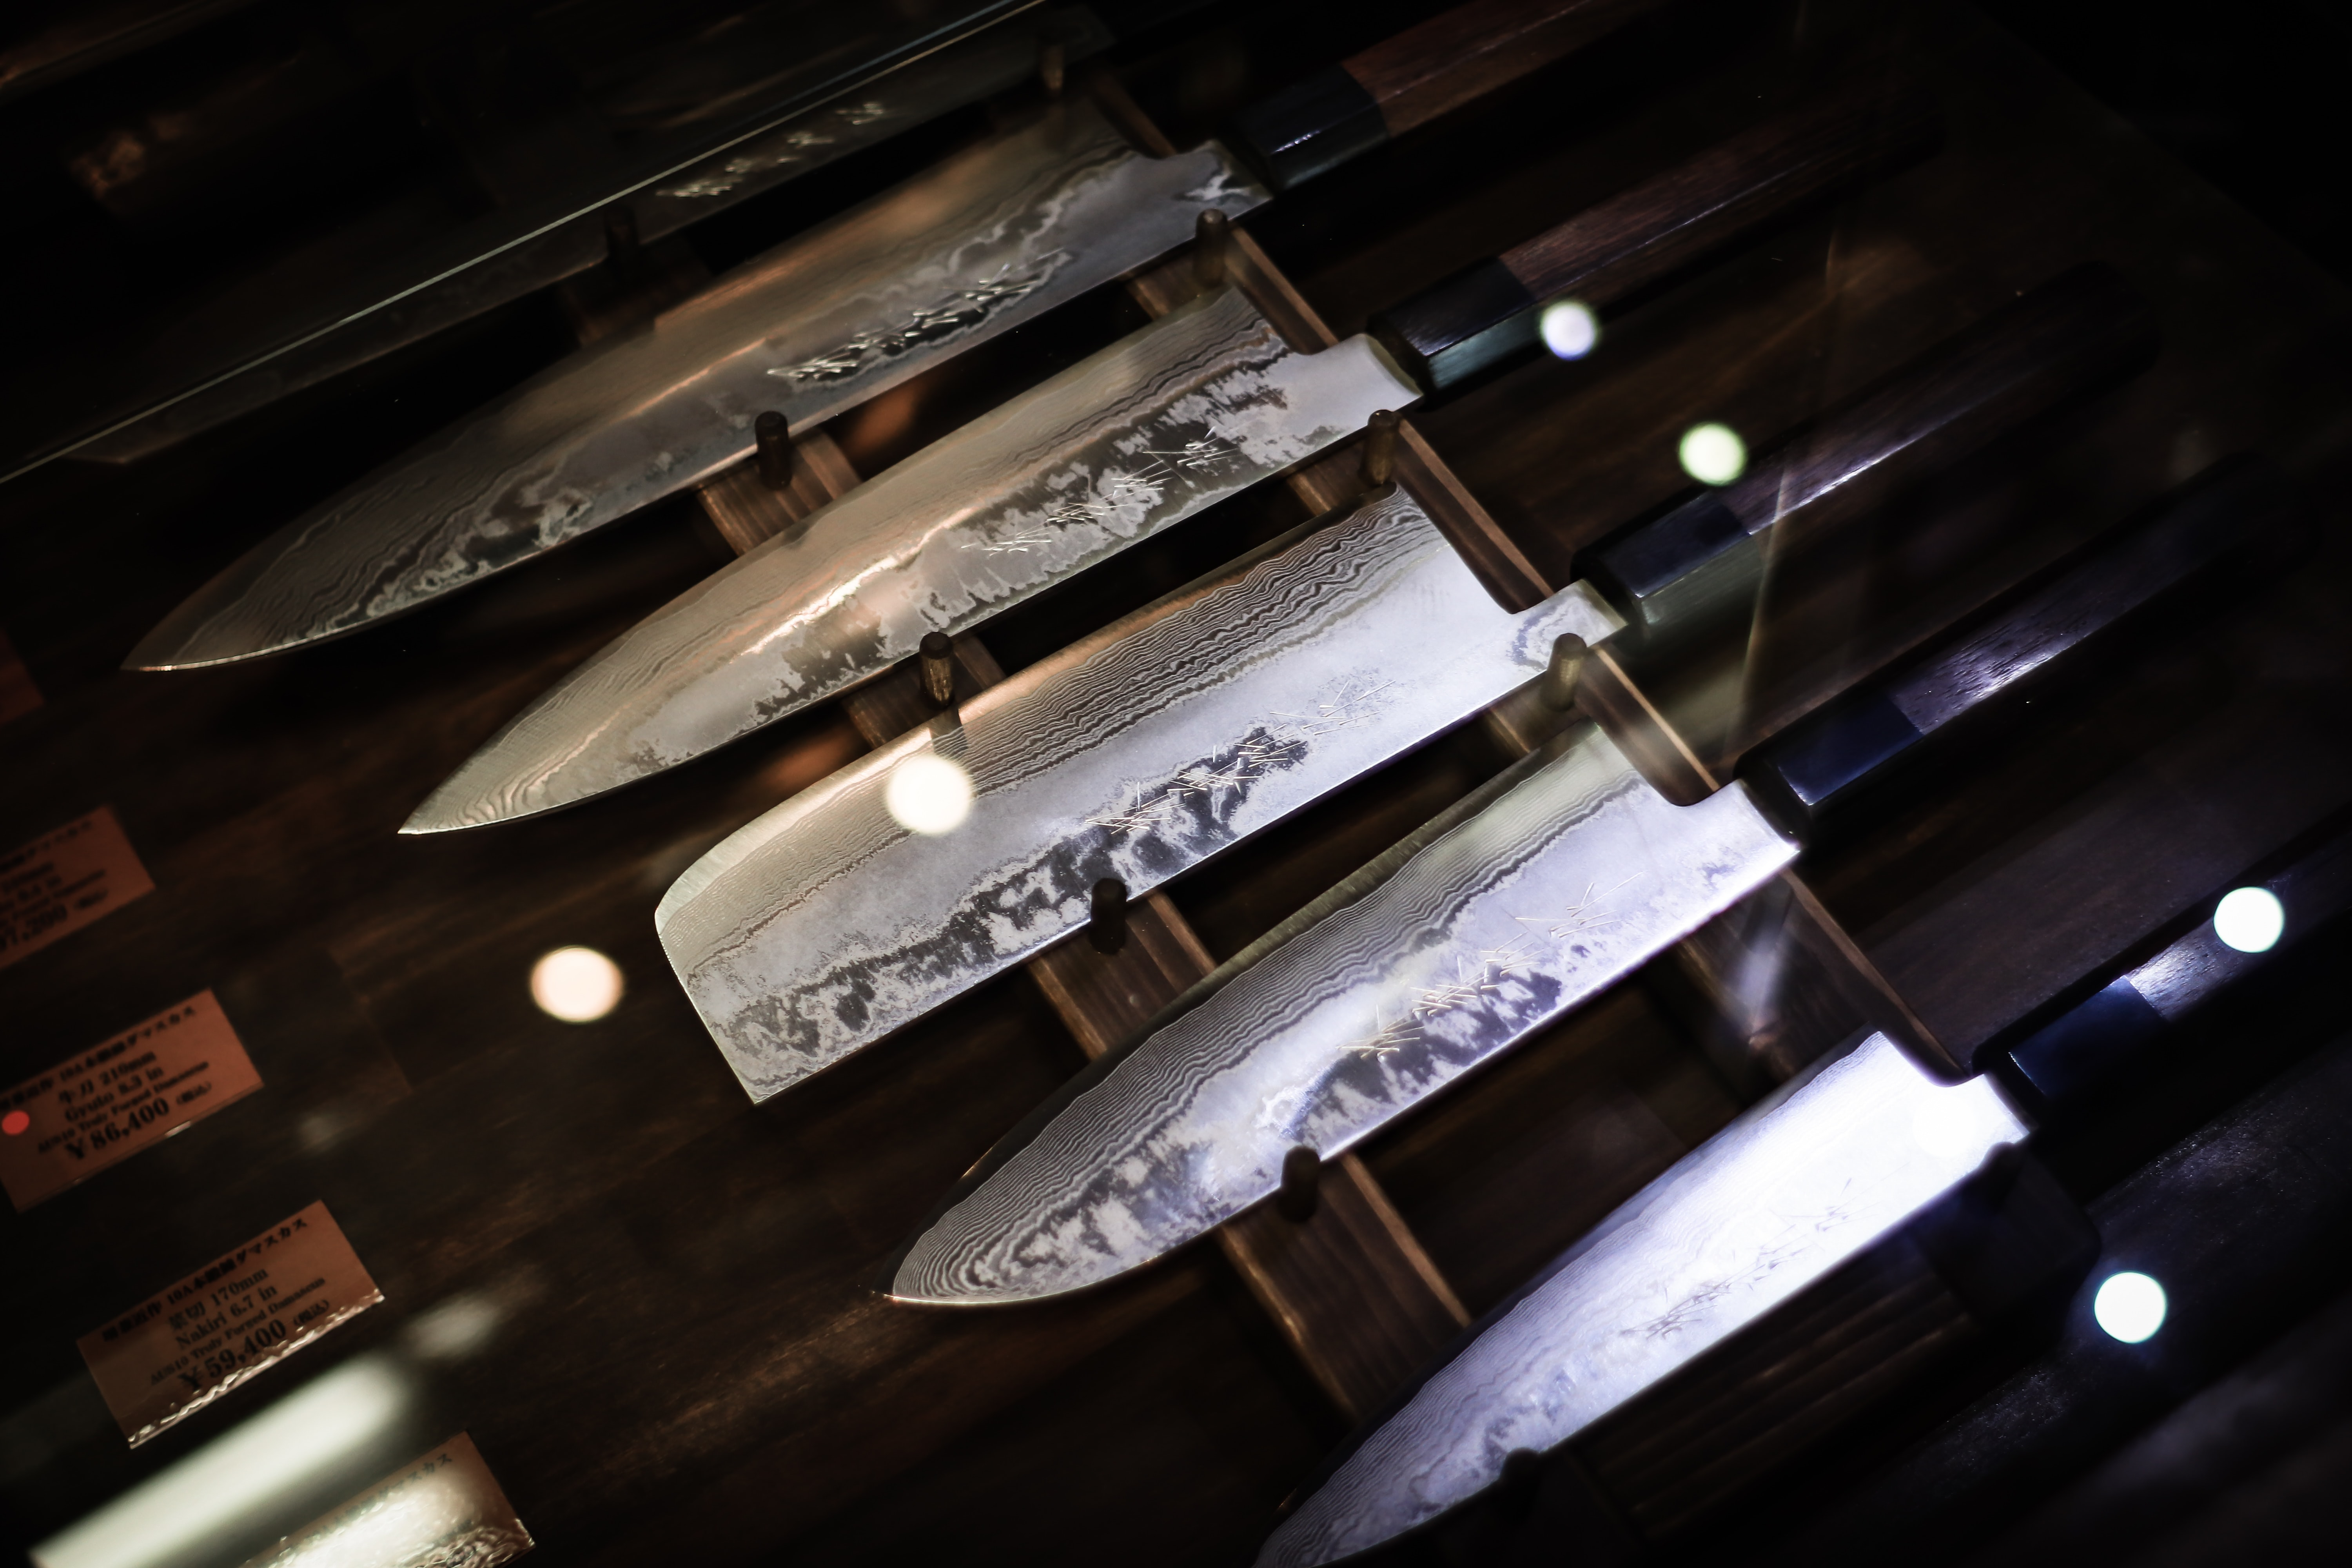knife: (89, 140, 2338, 1563)
